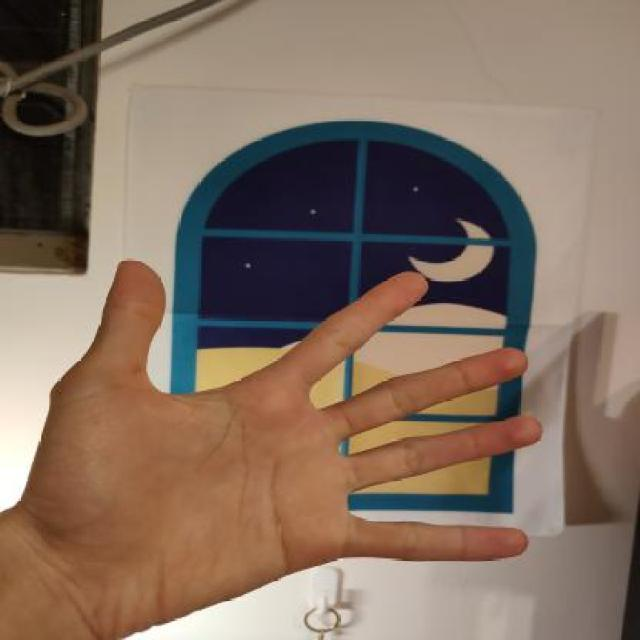bare_hand: (8, 243, 557, 640)
